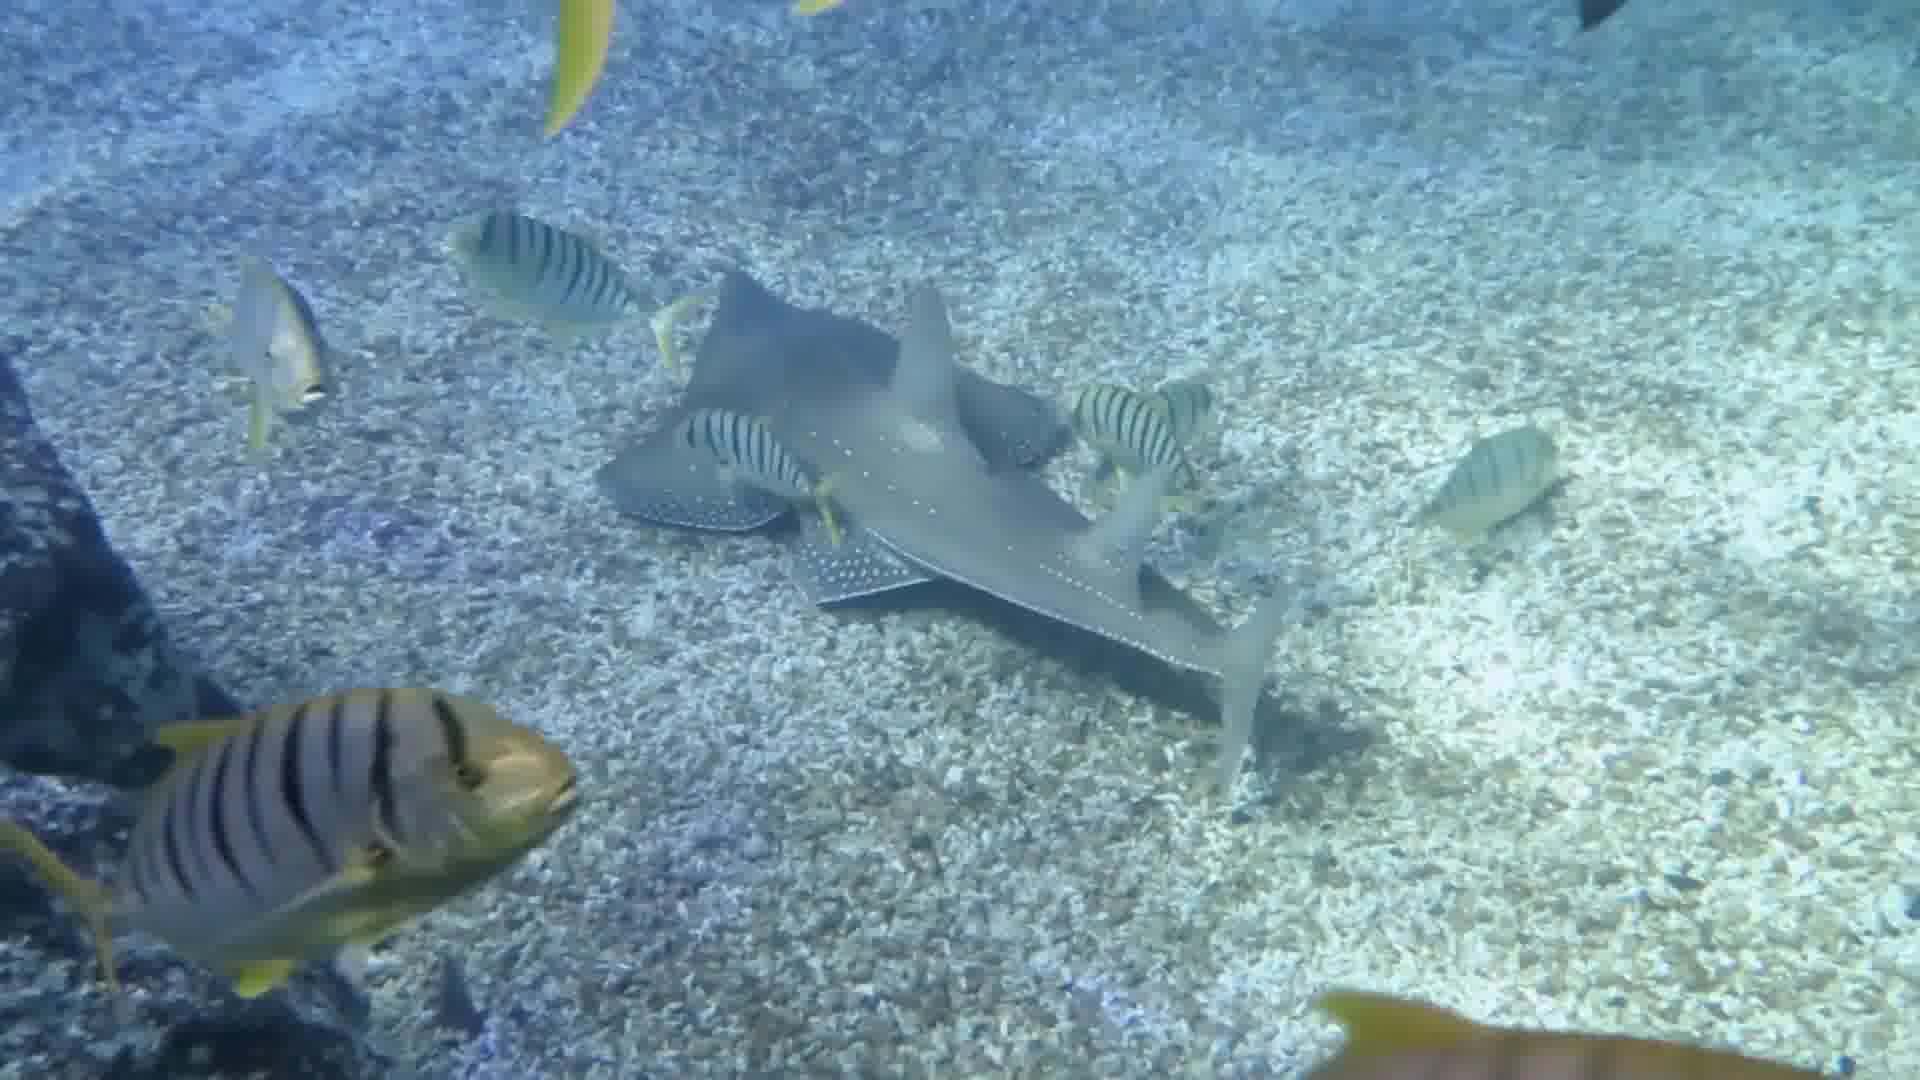Rhychobatus djiddensis: (585, 212, 1373, 771)
